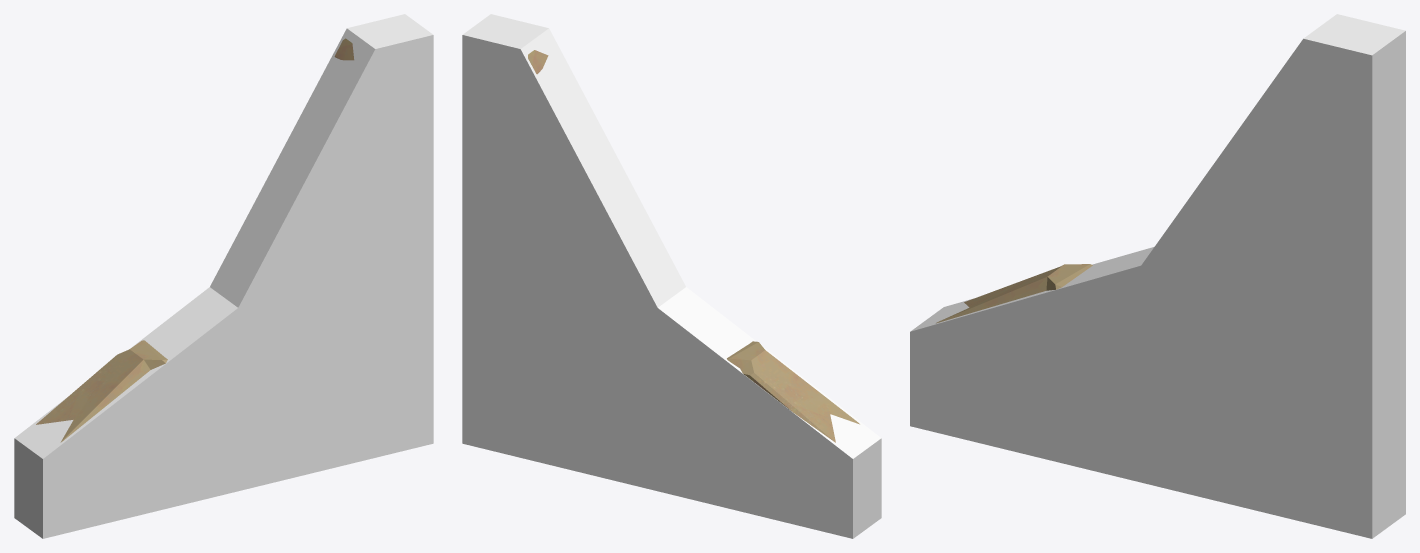
Rendered from BrokenWall_Full_B_Corner_L.fbx.
3 renders of one model, left to right at view 1: azimuth 30°, elevation 25°; view 2: azimuth 150°, elevation 25°; view 3: azimuth 330°, elevation 25°, orthographic. The views are drawn at different scales.
Parts seen in each view (by area): view 1: BrokenWall_B_Corner_L_COL, BrokenWall_B_Corner_L; view 2: BrokenWall_B_Corner_L_COL, BrokenWall_B_Corner_L; view 3: BrokenWall_B_Corner_L_COL, BrokenWall_B_Corner_L.
Boxes of the visible parts, x1,y1,x2,y2 form: BrokenWall_B_Corner_L_COL: (14,14,433,538); BrokenWall_B_Corner_L: (36,38,354,442); BrokenWall_B_Corner_L_COL: (462,14,881,538); BrokenWall_B_Corner_L: (528,50,859,442); BrokenWall_B_Corner_L_COL: (910,14,1405,538); BrokenWall_B_Corner_L: (936,264,1092,323).
Bounding box in the file's own units: 400 × 400 × 50.62.
